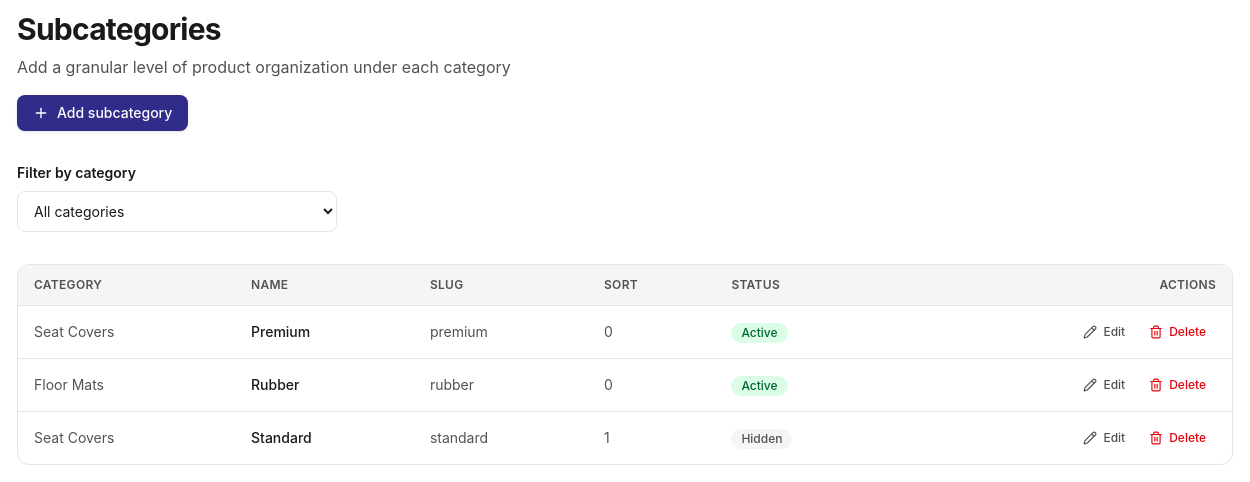
Test: SubcategoriesAdminPage › filters subcategories by category
The image size is (1250, 482).
Expected: the text "Premium" is shown, x1=235 y1=306 x2=414 y2=358
Select "Seat Covers" in the dropdown labelled "Filter by category" at (177, 212), box x1=17 y1=191 x2=337 y2=232
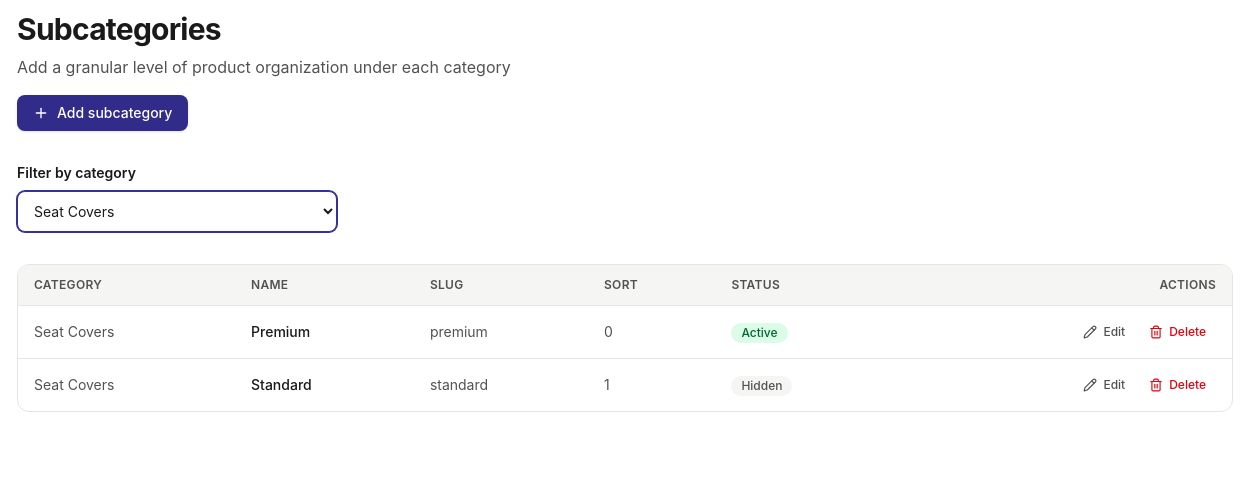
Expected: the row "Seat Covers Premium premium 0 Active Edit Delete" is shown, x1=18 y1=306 x2=1232 y2=358
Result: the cell "Rubber" is gone
